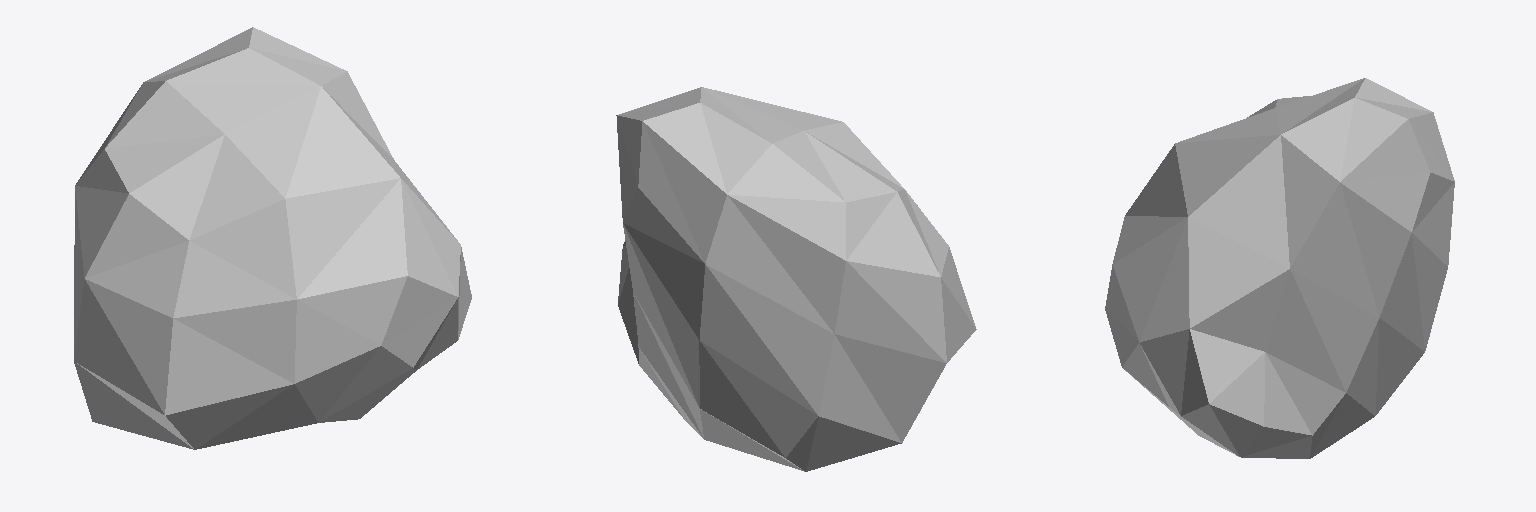
Rendered from asteroid_1.obj.
3 views of the same model, side by side, from view 1: azimuth 30°, elevation 25°; view 2: azimuth 150°, elevation 25°; view 3: azimuth 270°, elevation 25° (orthographic).
Visible parts, largest first — view 1: rock; view 2: rock; view 3: rock.
Boxes of the visible parts, x1=… form: rock: x1=74, y1=27, x2=471, y2=449; rock: x1=616, y1=87, x2=976, y2=471; rock: x1=1105, y1=78, x2=1454, y2=458.
Bounding box in the file's own units: 2.91 × 2.67 × 2.44.